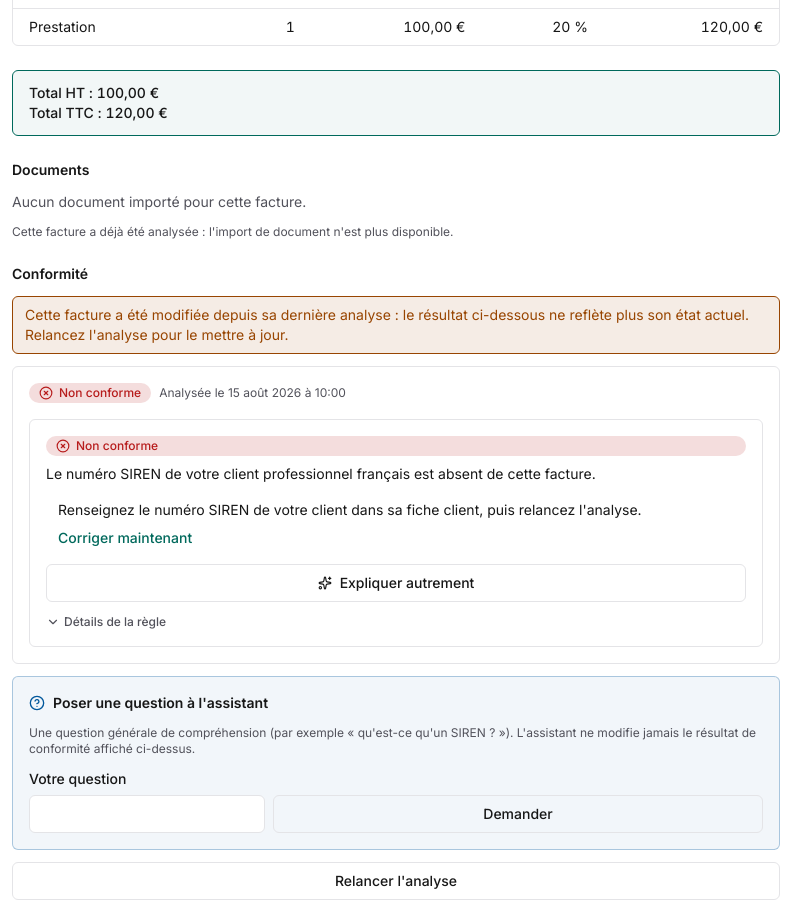
Scenario: InvoiceDetail › supports the full stale workflow: banner shown, relaunch, new result replaces the old one
This screenshot has width=797, height=900.
(page scrolled)
Expected: the text "modifiée depuis sa dernière analyse" is shown, top-left (25, 306), bottom-right (749, 343)
Expected: the text "Non conforme" next to "Analysée le" is shown, top-left (59, 385), bottom-right (141, 400)
Step 1. Click the button "Relancer l'analyse" → (396, 881), box top-left (12, 862), bottom-right (780, 899)
(page scrolled)
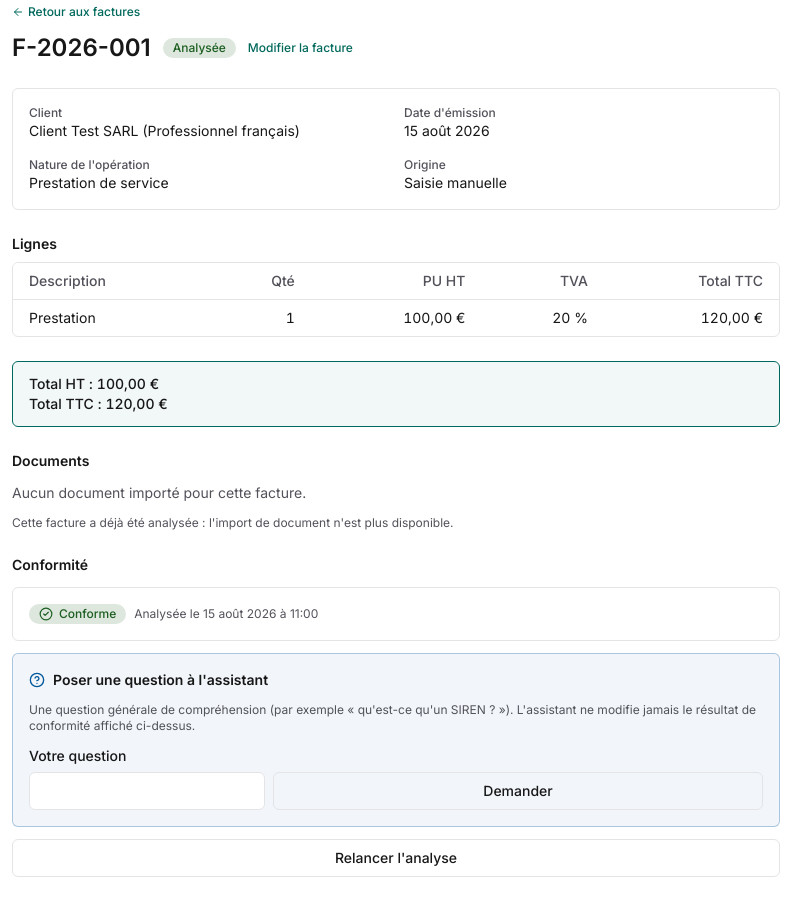
Expected: the text "Conforme" is shown, top-left (29, 604), bottom-right (126, 624)
Expected: the text "modifiée depuis sa dernière analyse" is gone
Expected: the text "Non conforme" is gone
